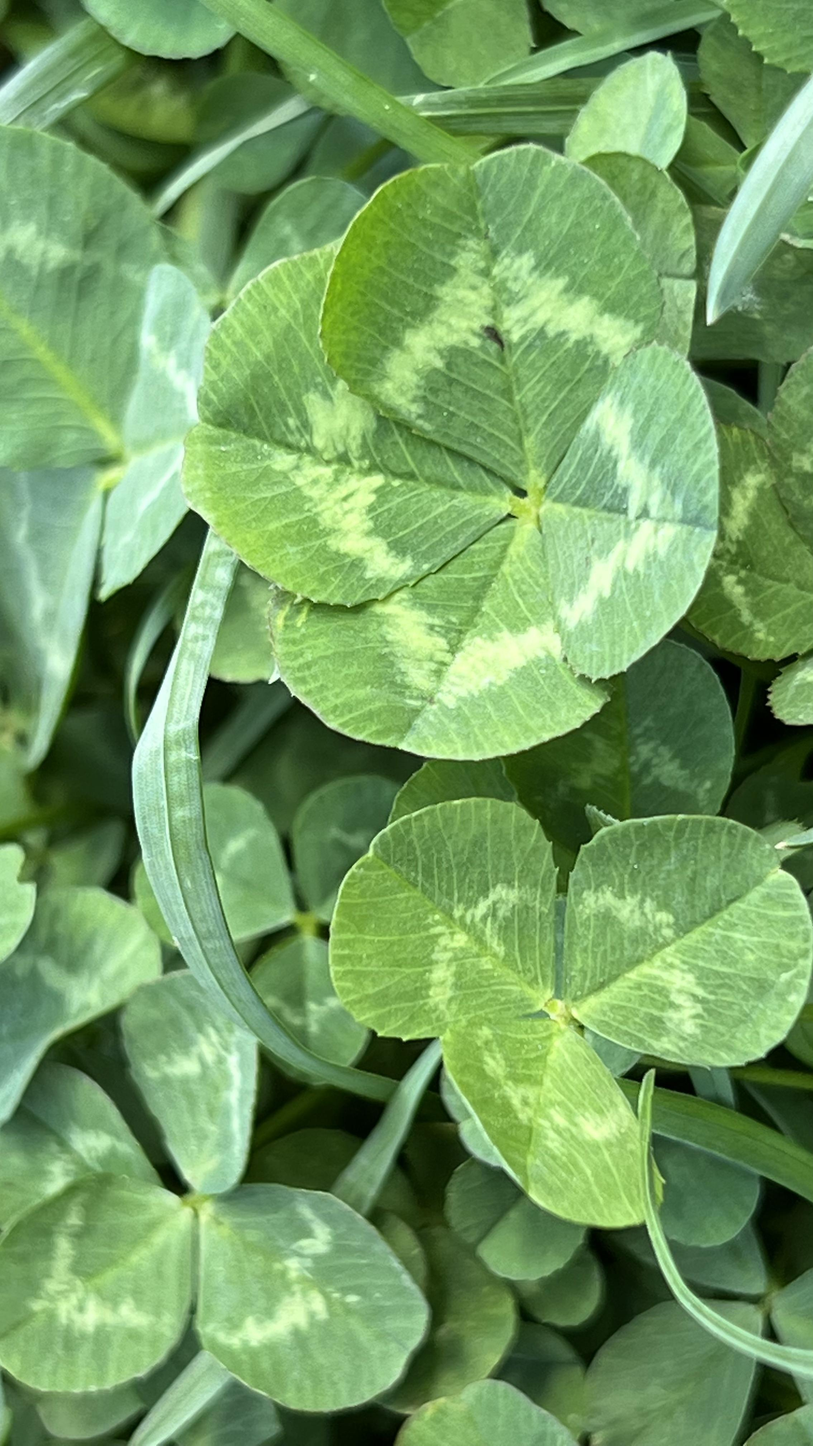4-Leaf-Clovers: (86, 174, 425, 1124)
